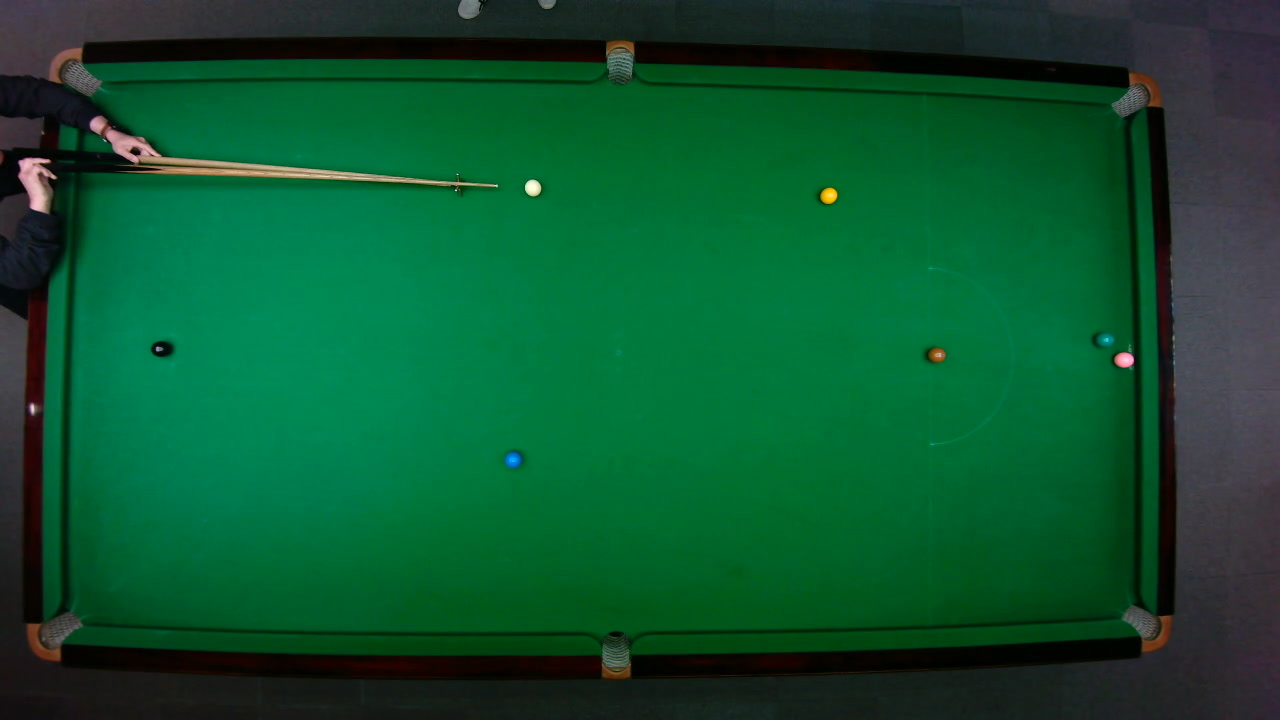bag: (24, 609, 83, 661), (47, 46, 102, 96), (1119, 603, 1172, 652), (1108, 71, 1161, 118), (600, 629, 629, 680), (605, 38, 633, 85)
black: (149, 339, 171, 357)
blue: (504, 450, 522, 468)
brown: (926, 346, 945, 362)
cue: (11, 145, 501, 191)
green: (1093, 330, 1114, 347)
pink: (1112, 350, 1135, 368)
white: (523, 178, 542, 197)
yellow: (818, 185, 838, 204)
zone: (927, 265, 1013, 445)
